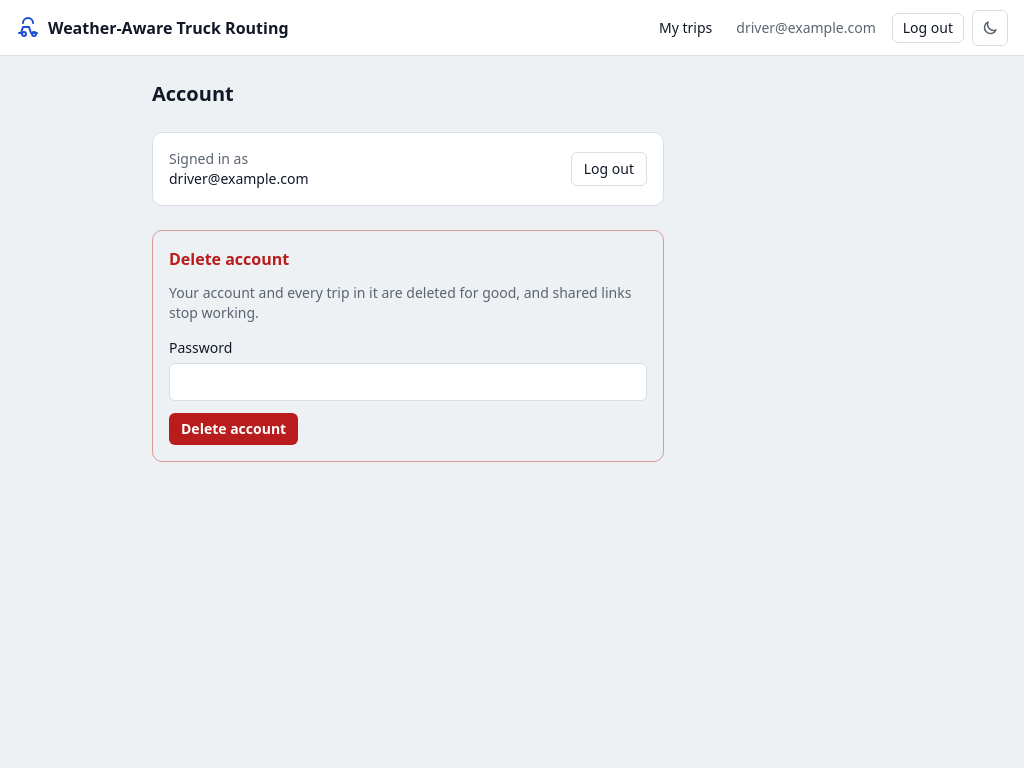
Test: account page › deletes after asking, and lands on the planner as a guest with no recent trips
expect the heading "Account" is shown: met, box x1=152 y1=80 x2=234 y2=107
Step 1. Type "correct-horse-9" into the password field labelled "Password" → (408, 382), box x1=169 y1=363 x2=647 y2=401
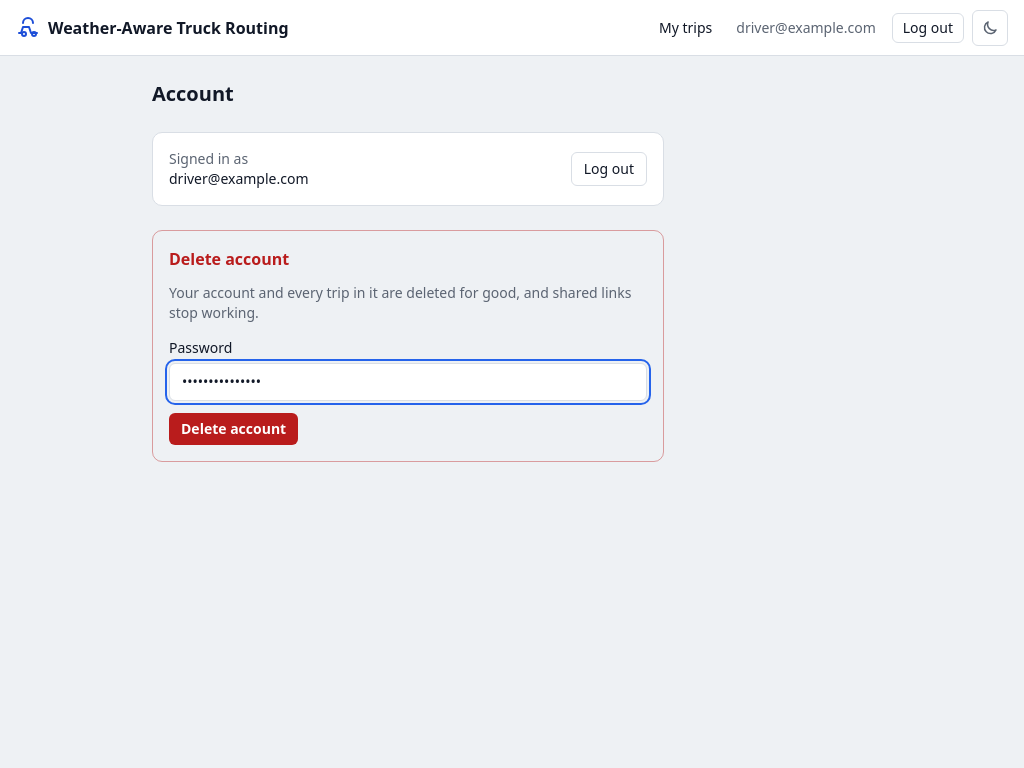
Step 2. Click the button "Delete account" → (234, 429), box x1=169 y1=413 x2=298 y2=445
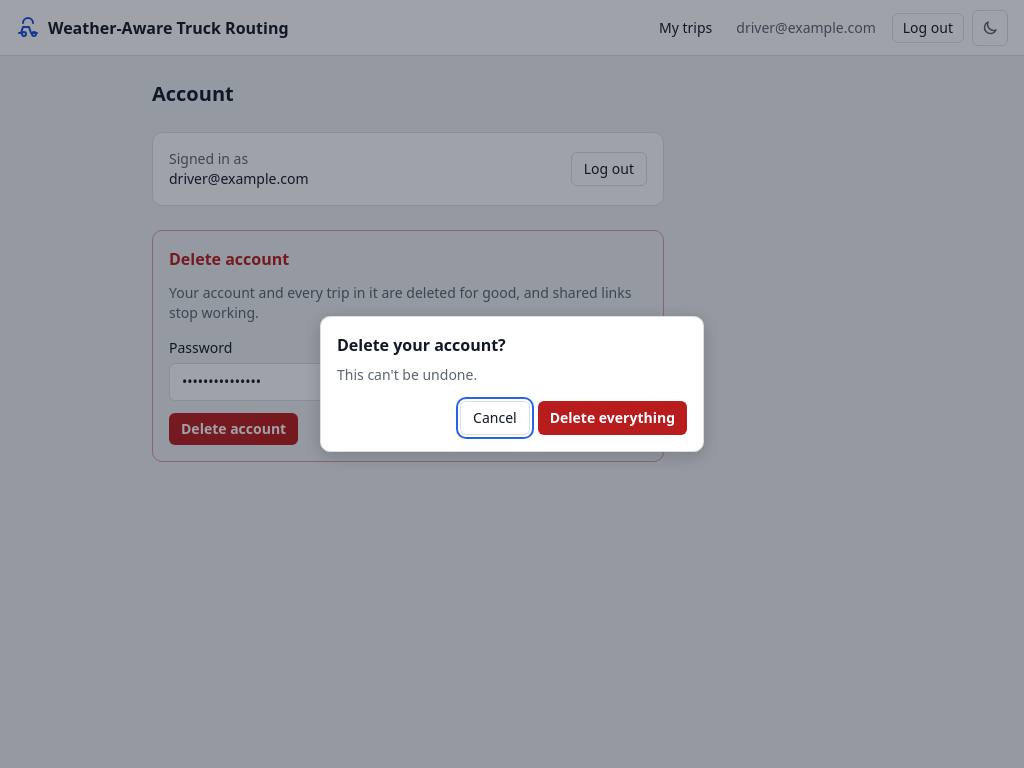
Step 3. Click the button "Delete everything" → (612, 418), box x1=538 y1=401 x2=687 y2=435
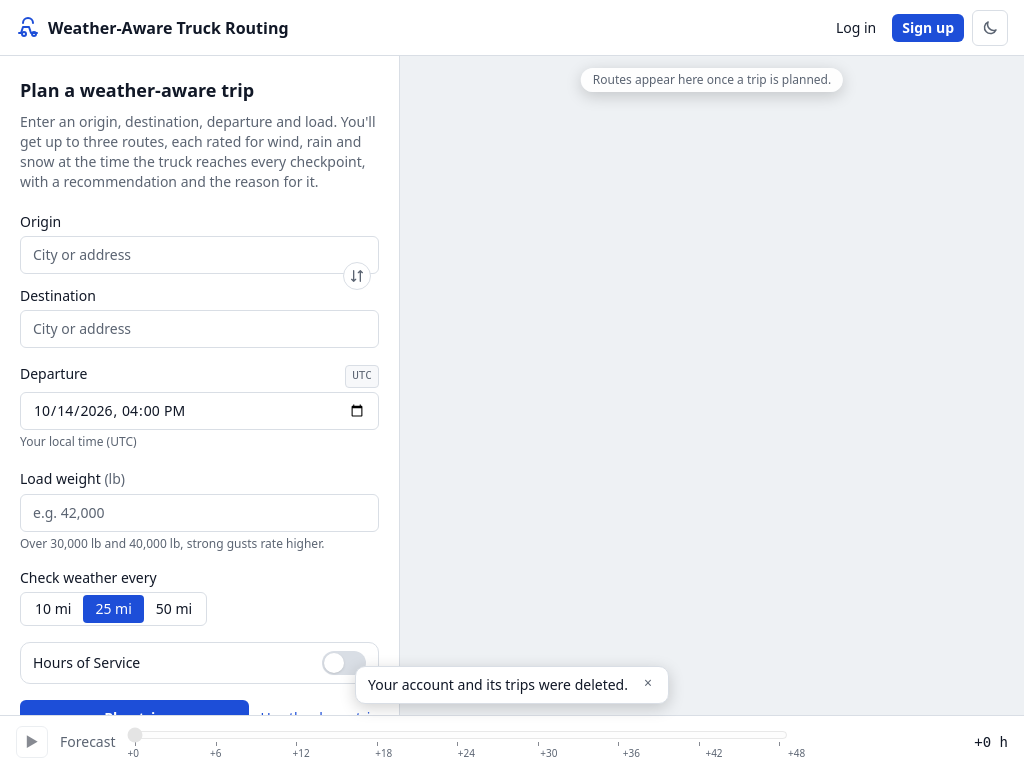
expect the heading "Plan a weather-aware trip" is shown: met, box x1=20 y1=78 x2=254 y2=102
expect the text "Your account and its trips were deleted." is shown: met, box x1=368 y1=675 x2=628 y2=695
expect the link "Log in" is shown: met, box x1=836 y1=18 x2=876 y2=36
